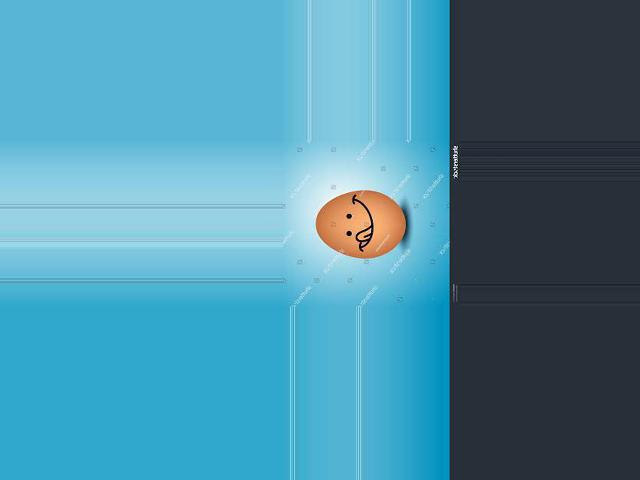egg: (315, 190, 406, 259)
